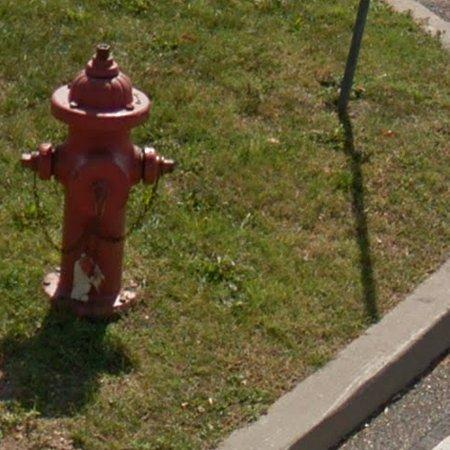a fire hydrant: (21, 44, 174, 319)
